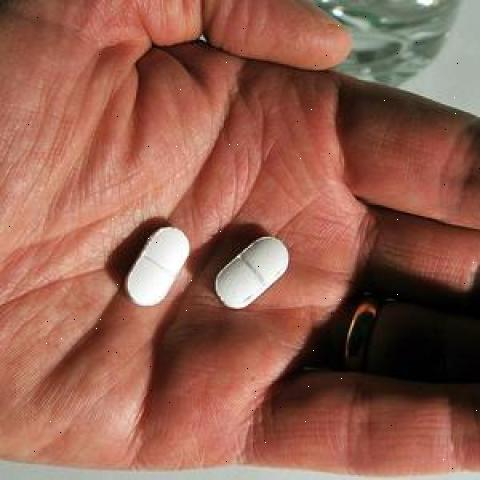Pill: (202, 213, 312, 318), (118, 199, 194, 332)
